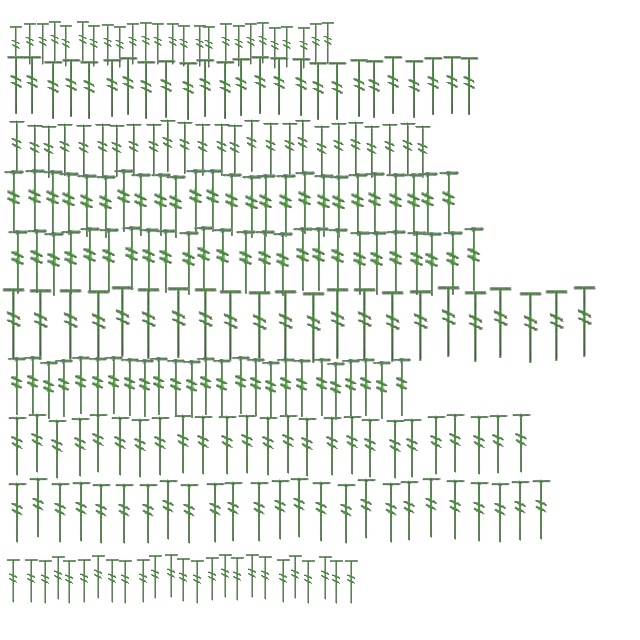fan: (0, 286, 28, 362), (85, 288, 113, 364), (109, 284, 137, 360), (135, 286, 163, 362), (192, 286, 220, 362), (217, 288, 245, 364), (272, 288, 300, 364), (300, 290, 328, 366), (324, 286, 352, 362), (351, 286, 379, 362), (407, 288, 435, 364), (435, 284, 463, 360), (517, 290, 545, 366), (543, 288, 571, 364), (571, 284, 599, 360), (27, 288, 55, 362), (57, 288, 85, 362), (165, 286, 193, 360), (246, 290, 274, 364), (379, 290, 407, 364), (462, 290, 490, 364), (487, 286, 515, 360), (78, 226, 102, 294), (154, 228, 178, 296), (348, 230, 372, 298), (462, 226, 486, 294), (2, 169, 26, 235), (94, 174, 118, 240), (112, 168, 136, 234), (164, 174, 188, 240), (184, 168, 208, 234), (220, 172, 244, 238), (240, 174, 264, 240), (254, 173, 278, 239), (274, 173, 298, 239), (312, 173, 336, 239), (346, 172, 370, 238), (384, 172, 408, 238), (402, 172, 426, 238), (416, 171, 440, 237), (6, 230, 30, 296), (42, 232, 66, 298), (120, 226, 144, 292), (192, 226, 216, 292), (234, 230, 258, 296), (326, 228, 350, 294), (384, 230, 408, 296), (420, 232, 444, 298), (6, 414, 30, 480), (172, 412, 196, 478), (236, 412, 260, 478), (6, 480, 30, 546), (70, 479, 94, 545), (90, 481, 114, 547), (178, 481, 202, 547), (204, 480, 228, 546), (222, 479, 246, 545), (248, 479, 272, 545), (288, 475, 312, 541), (310, 479, 334, 545), (380, 480, 404, 546), (398, 478, 422, 544), (420, 475, 444, 541), (444, 477, 468, 543), (468, 479, 492, 545), (530, 477, 554, 543), (26, 412, 50, 476), (46, 418, 70, 482), (192, 414, 216, 478), (216, 414, 240, 478), (296, 416, 320, 480), (384, 418, 408, 482), (444, 412, 468, 476), (468, 414, 492, 478), (510, 412, 534, 476), (26, 228, 48, 296), (178, 230, 200, 298), (292, 226, 314, 294), (308, 226, 330, 294), (366, 230, 388, 298), (406, 230, 428, 298), (442, 230, 464, 298), (42, 59, 66, 121), (60, 57, 84, 119), (78, 59, 102, 121), (194, 57, 218, 119), (214, 59, 238, 121), (230, 56, 254, 118), (268, 55, 292, 117), (290, 56, 314, 118), (326, 60, 350, 122), (348, 57, 372, 119), (382, 54, 406, 116), (422, 55, 446, 117), (458, 55, 482, 117), (24, 168, 46, 234), (42, 169, 64, 235), (58, 171, 80, 237), (76, 173, 98, 239), (130, 172, 152, 238), (150, 172, 172, 238), (202, 168, 224, 234), (294, 170, 316, 236), (328, 174, 350, 240), (364, 171, 386, 237), (438, 170, 460, 236), (60, 230, 82, 296), (98, 228, 120, 294), (138, 228, 160, 294), (212, 228, 234, 294), (254, 230, 276, 296), (272, 232, 294, 298), (110, 414, 132, 480), (130, 416, 152, 482), (150, 414, 172, 480), (258, 414, 280, 480), (278, 412, 300, 478), (322, 414, 344, 480), (360, 416, 382, 482), (402, 416, 424, 482), (488, 412, 510, 478), (28, 475, 50, 541), (50, 480, 72, 546), (114, 481, 136, 547), (138, 481, 160, 547), (158, 477, 180, 543), (270, 477, 292, 543), (336, 481, 358, 547), (356, 476, 378, 542), (490, 480, 512, 546), (510, 478, 532, 544), (70, 416, 92, 480), (88, 412, 110, 476), (342, 414, 364, 478), (426, 414, 448, 478), (6, 54, 28, 116), (22, 54, 44, 116), (102, 57, 124, 119), (118, 55, 140, 117), (136, 59, 158, 121), (156, 58, 178, 120), (178, 60, 200, 122), (250, 54, 272, 116), (308, 60, 330, 122), (364, 58, 386, 120), (404, 58, 426, 120), (442, 54, 464, 116), (6, 356, 28, 418), (38, 360, 60, 422), (134, 358, 156, 420), (148, 356, 170, 418), (260, 360, 282, 422), (340, 358, 362, 420), (22, 356, 44, 416), (70, 356, 92, 416), (230, 356, 252, 416), (54, 358, 74, 420), (88, 356, 108, 418), (166, 358, 186, 420), (196, 356, 216, 418), (212, 358, 232, 420), (292, 358, 312, 420), (372, 360, 392, 422), (104, 356, 124, 416), (120, 358, 140, 418), (182, 360, 202, 420), (246, 358, 266, 418), (276, 358, 296, 418), (312, 358, 332, 418), (326, 362, 346, 422), (356, 358, 376, 418), (392, 358, 412, 418), (7, 118, 27, 176), (25, 122, 45, 180), (39, 123, 59, 181), (55, 121, 75, 179), (74, 122, 94, 180), (93, 121, 113, 179), (107, 122, 127, 180), (124, 121, 144, 179), (144, 121, 164, 179), (158, 117, 178, 175), (175, 119, 195, 177), (193, 121, 213, 179), (212, 121, 232, 179), (225, 122, 245, 180), (242, 117, 262, 175), (261, 120, 281, 178), (280, 120, 300, 178), (293, 117, 313, 175), (312, 123, 332, 181), (329, 120, 349, 178), (346, 119, 366, 177), (362, 123, 382, 181), (380, 121, 400, 179), (398, 120, 418, 178), (413, 123, 433, 181), (50, 554, 68, 602), (76, 557, 94, 605), (90, 553, 108, 601), (104, 557, 122, 605), (204, 555, 222, 603), (244, 552, 262, 600), (300, 558, 318, 606), (328, 558, 346, 606), (6, 557, 22, 605), (24, 557, 40, 605), (38, 558, 54, 606), (62, 558, 78, 606), (118, 558, 134, 606), (136, 557, 152, 605), (148, 553, 164, 601), (164, 552, 180, 600), (176, 556, 192, 604), (190, 558, 206, 606), (218, 552, 234, 600), (230, 555, 246, 603), (258, 554, 274, 602), (276, 557, 292, 605), (288, 553, 304, 601), (318, 554, 334, 602), (344, 558, 360, 606), (8, 24, 24, 70), (22, 21, 38, 67), (35, 21, 51, 67), (47, 19, 63, 65), (58, 23, 74, 69), (75, 19, 91, 65), (86, 23, 102, 69), (100, 22, 116, 68), (112, 24, 128, 70), (125, 21, 141, 67), (138, 20, 154, 66), (150, 21, 166, 67), (165, 21, 181, 67), (176, 23, 192, 69), (192, 23, 208, 69), (201, 24, 217, 70), (218, 21, 234, 67), (231, 23, 247, 69), (243, 21, 259, 67), (255, 20, 271, 66), (267, 25, 283, 71), (279, 24, 295, 70), (296, 25, 312, 71), (308, 21, 324, 67), (320, 20, 336, 66)
